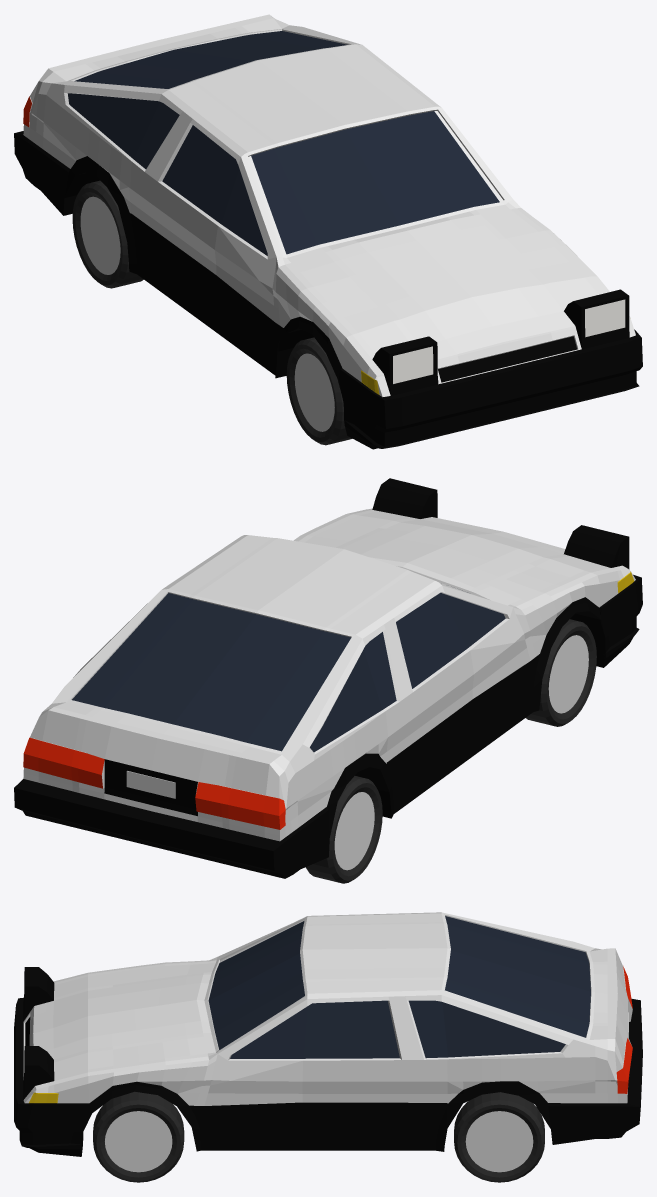
File: AE86P122ost.fbx
The picture shows the model from 3 angles, top to bottom: view 1: azimuth 30°, elevation 25°; view 2: azimuth 150°, elevation 25°; view 3: azimuth 270°, elevation 25°; orthographic projection. The views are drawn at different scales.
Parts seen in each view (by area): view 1: Cube, Cylinder.003, Cylinder.002; view 2: Cube, Cylinder.003, Cylinder.002; view 3: Cube, Cylinder, Cylinder.001.
Boxes of the visible parts, x1,y1,x2,y2 form: Cube: (14, 14, 642, 449); Cylinder.003: (72, 180, 143, 288); Cylinder.002: (286, 337, 352, 445); Cube: (14, 478, 642, 878); Cylinder.003: (305, 776, 382, 883); Cylinder.002: (526, 619, 596, 726); Cube: (14, 912, 642, 1156); Cylinder: (93, 1091, 184, 1182); Cylinder.001: (454, 1092, 544, 1182).
Size of the model in its own units: 407 by 317 by 992.
